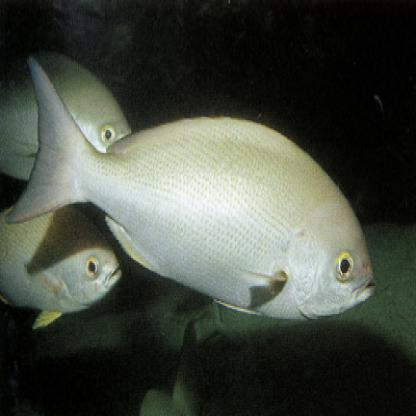snapper: (7, 51, 382, 327)
